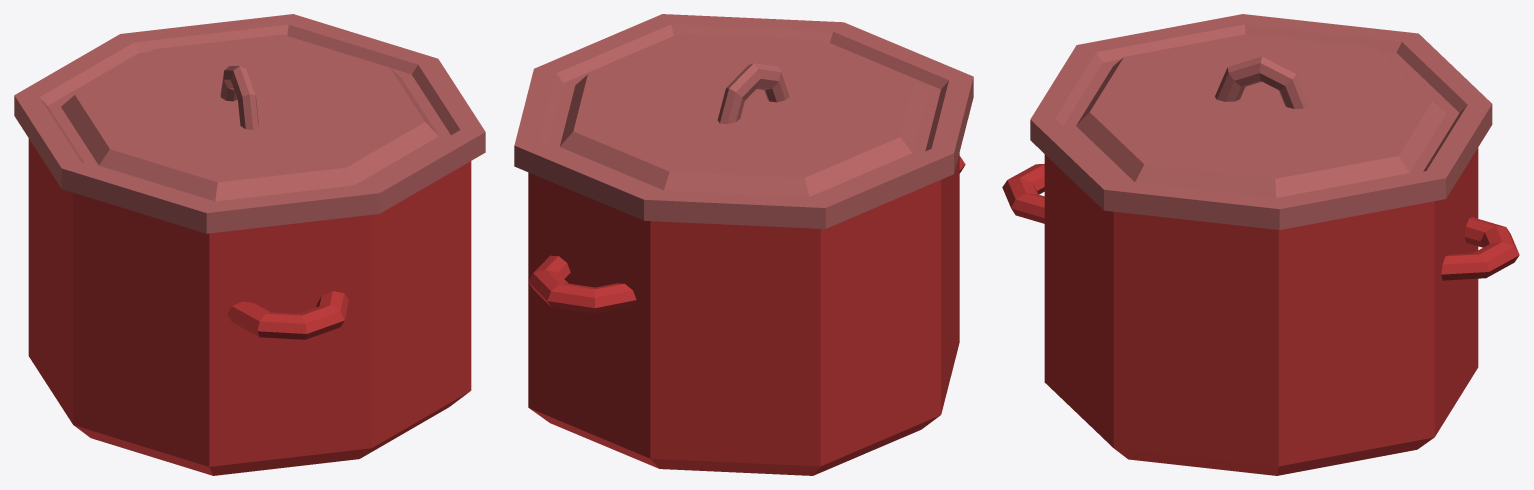
The model's file is Kitchen_Saucepan2.fbx.
3 views of the same model, side by side, from view 1: azimuth 30°, elevation 25°; view 2: azimuth 150°, elevation 25°; view 3: azimuth 270°, elevation 25° (orthographic).
Visible parts, largest first — view 1: Kitchen_Saucepan2; view 2: Kitchen_Saucepan2; view 3: Kitchen_Saucepan2.
Part boxes in pixels (left/top/right/bottom): Kitchen_Saucepan2: left=14, top=14, right=485, bottom=475; Kitchen_Saucepan2: left=514, top=14, right=973, bottom=475; Kitchen_Saucepan2: left=1002, top=14, right=1519, bottom=475.
Bounding box in the file's own units: 53 × 42.04 × 59.36.
